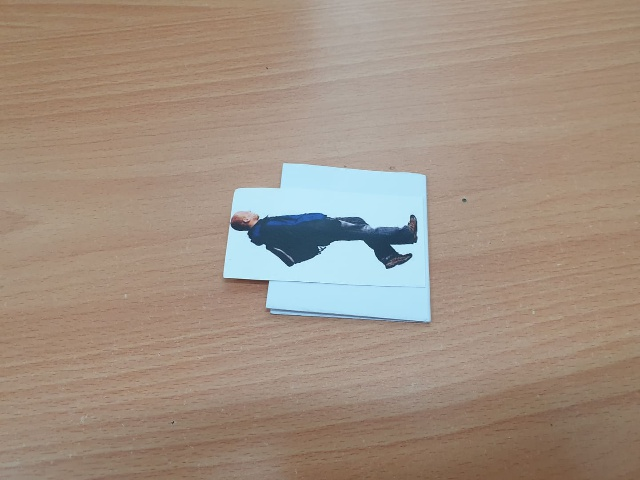Person: (229, 206, 420, 272)
